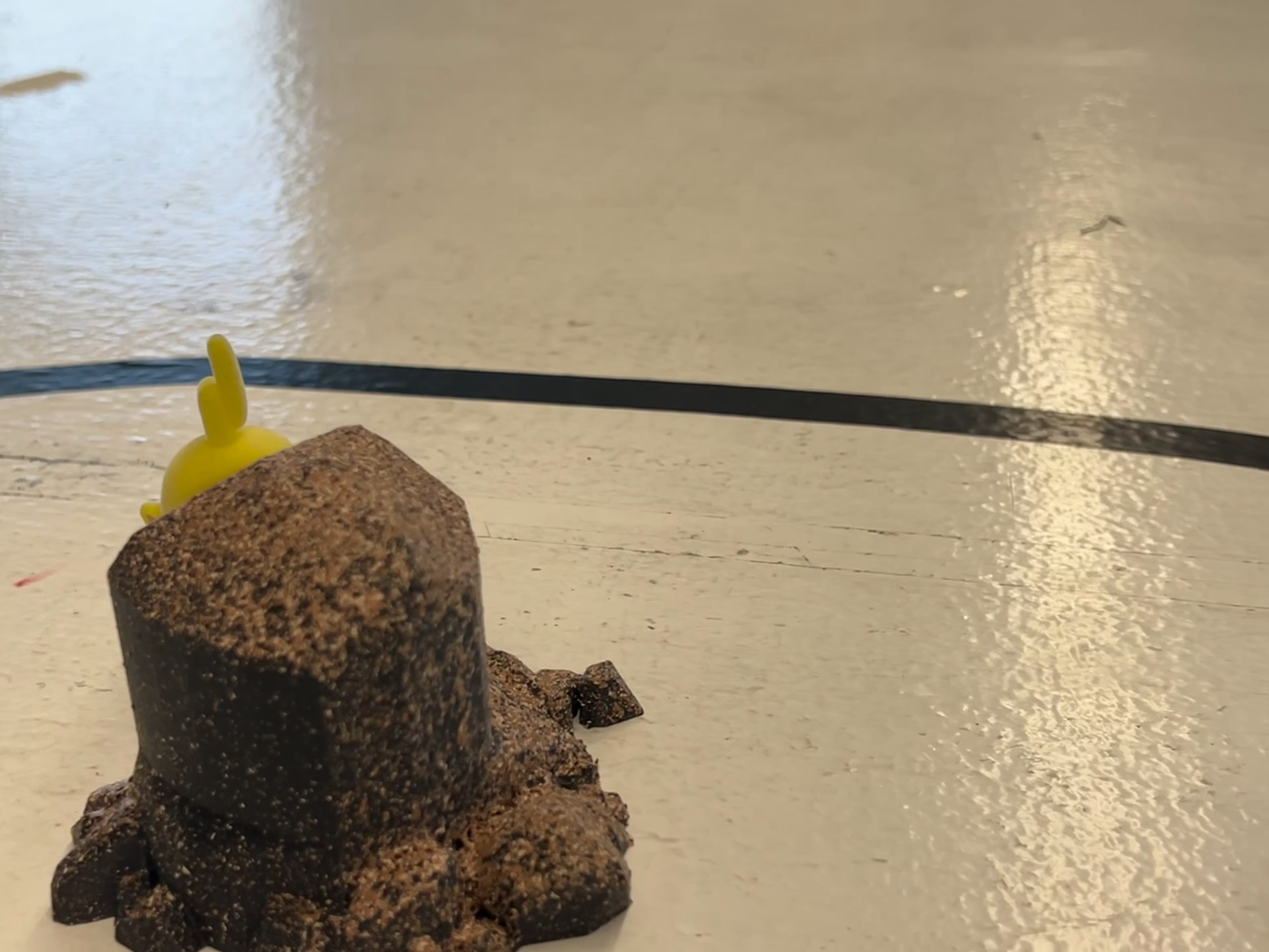teletubby: (142, 335, 291, 524)
